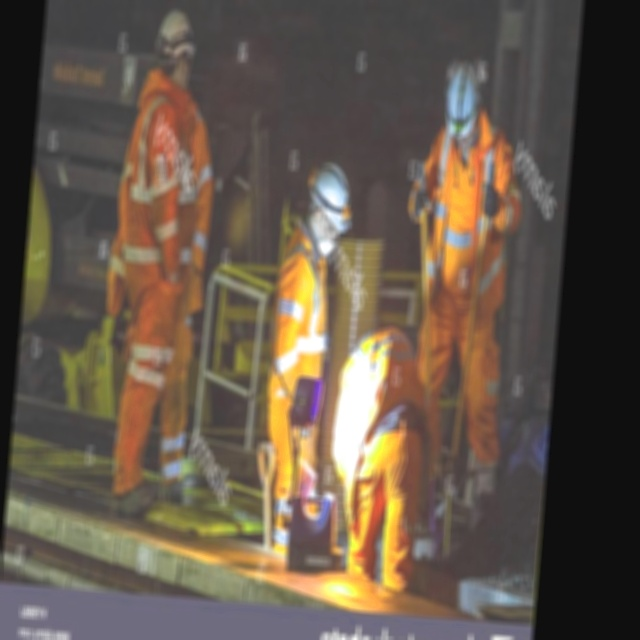Con_Casco: (302, 163, 357, 245), (154, 6, 197, 88)
Con_Chaleco: (116, 91, 205, 292), (419, 125, 509, 314), (268, 245, 335, 419)
